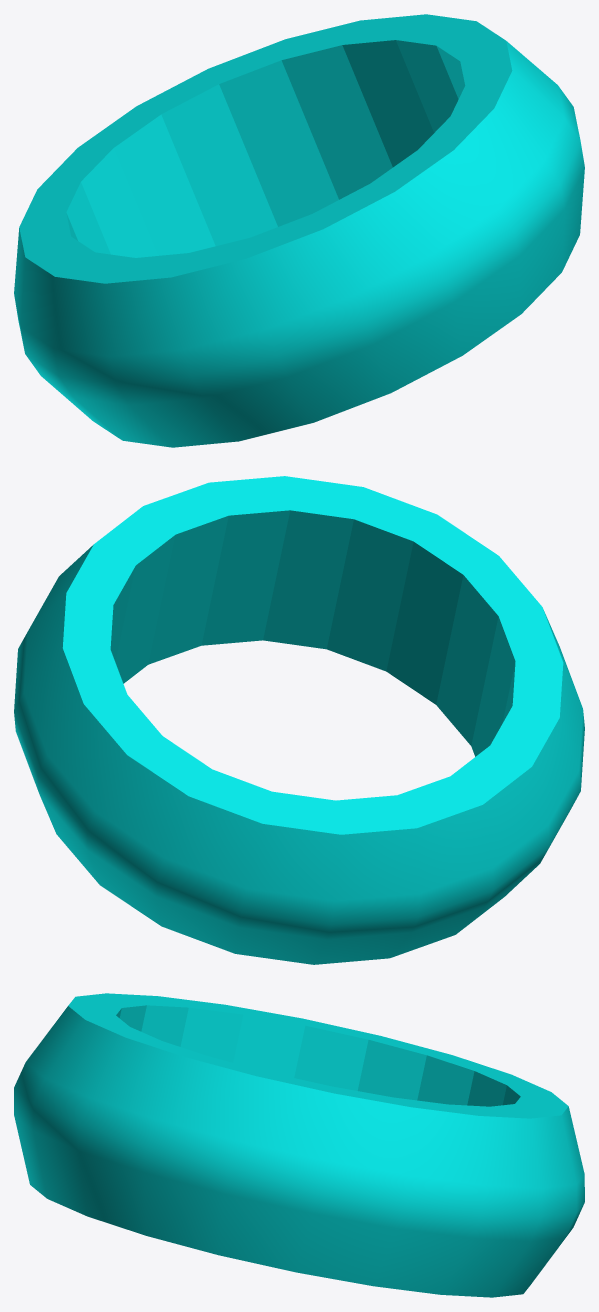
File: Bague_low.fbx
The picture shows the model from 3 angles, top to bottom: view 1: azimuth 30°, elevation 25°; view 2: azimuth 150°, elevation 25°; view 3: azimuth 270°, elevation 25°; orthographic projection. The views are drawn at different scales.
Visible parts, largest first — view 1: ring; view 2: ring; view 3: ring.
Boxes of the visible parts, bbox=[...] form: ring: bbox=[14, 14, 584, 447]; ring: bbox=[14, 476, 584, 964]; ring: bbox=[14, 993, 584, 1297].
Size of what is drawn, in the model's own units: 3.52 by 2.22 by 3.57.
